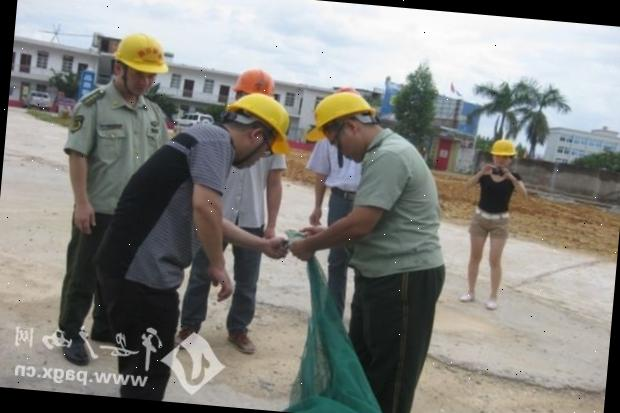helmet: (300, 85, 382, 146), (220, 90, 294, 154), (108, 28, 168, 78), (488, 134, 521, 158)
no_wear: (102, 120, 227, 292), (347, 143, 444, 282), (68, 90, 170, 216), (221, 156, 284, 228), (474, 172, 519, 226)
